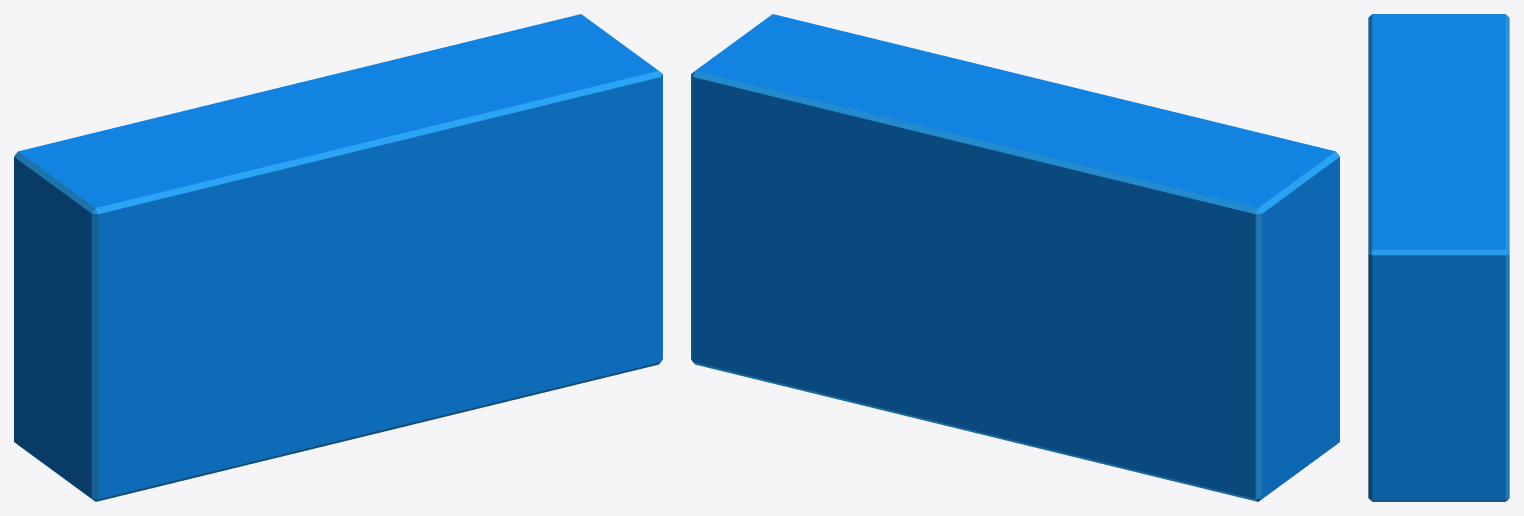
The model's file is wall move.FBX.
The picture shows the model from 3 angles, left to right: view 1: azimuth 30°, elevation 25°; view 2: azimuth 150°, elevation 25°; view 3: azimuth 270°, elevation 25°; orthographic projection. The views are drawn at different scales.
Parts seen in each view (by area): view 1: Rectangle001; view 2: Rectangle001; view 3: Rectangle001.
Part boxes in pixels (box(x1,y1,x2,y2)): Rectangle001: box(14, 14, 662, 501); Rectangle001: box(691, 14, 1339, 501); Rectangle001: box(1368, 14, 1509, 501).
Size of the model in its own units: 160 by 78.74 by 40.02.
Materials: 1 (1 with a texture image).
